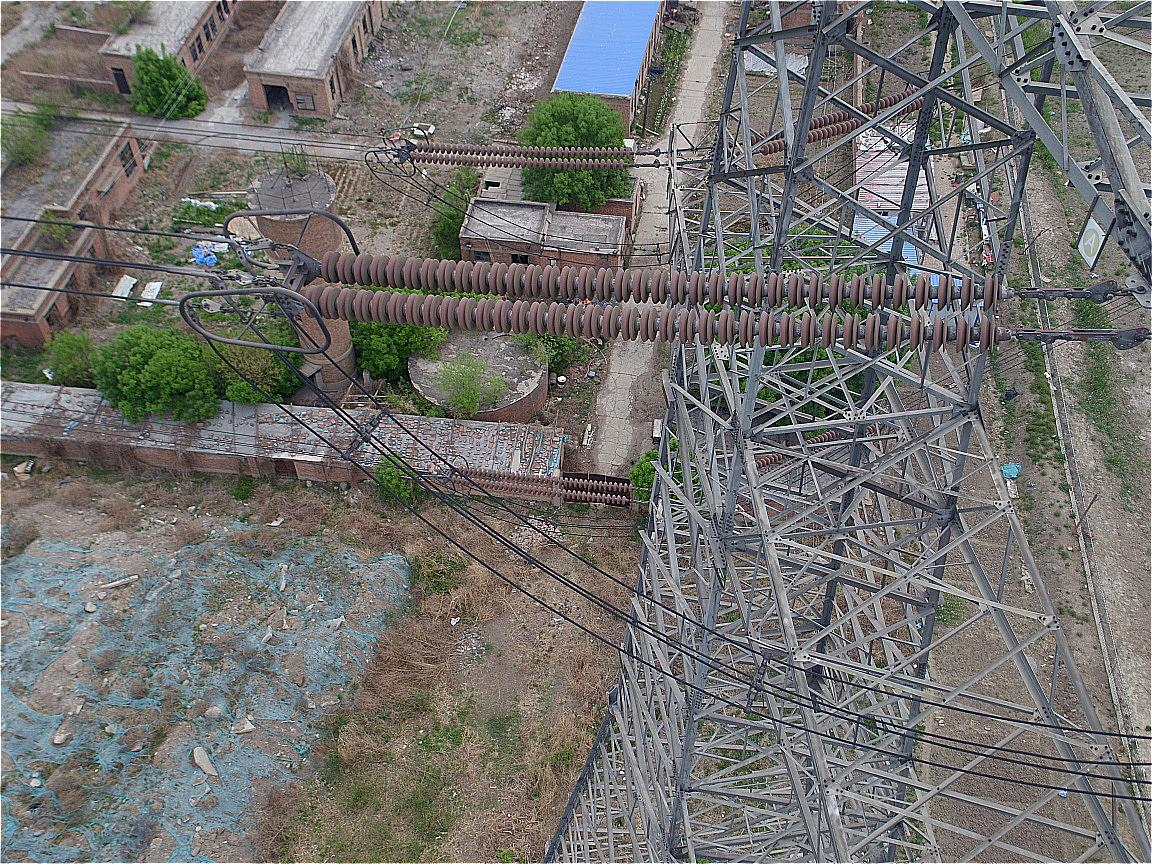insultor1: (404, 135, 646, 174)
insultor2: (294, 229, 1008, 358)
